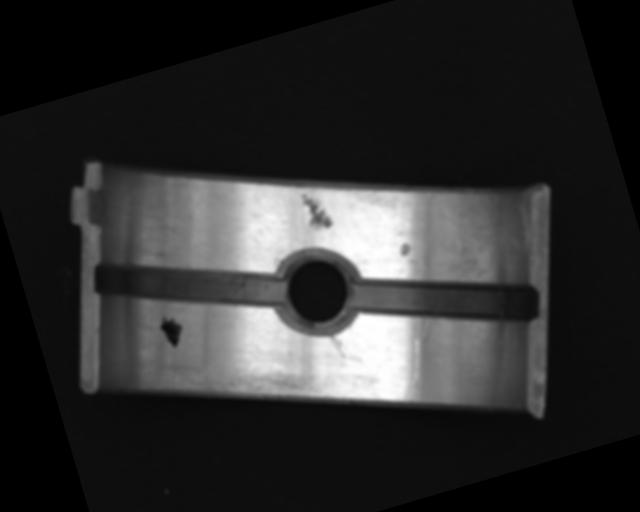blot: (156, 311, 187, 351)
bruise: (299, 186, 336, 234), (398, 240, 414, 259)
gap: (90, 217, 289, 354), (351, 236, 541, 364)
hole: (264, 240, 371, 348)
nick: (388, 337, 437, 404), (327, 330, 347, 360)
scratch: (148, 338, 311, 438)
